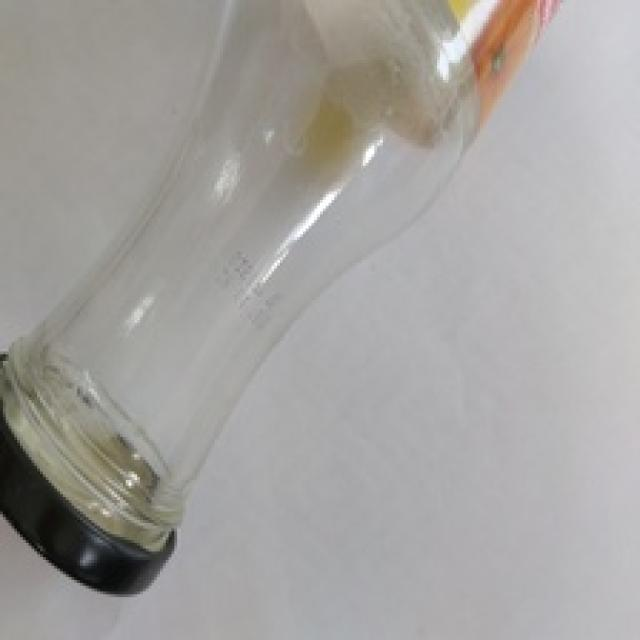Glass: (3, 0, 562, 547)
